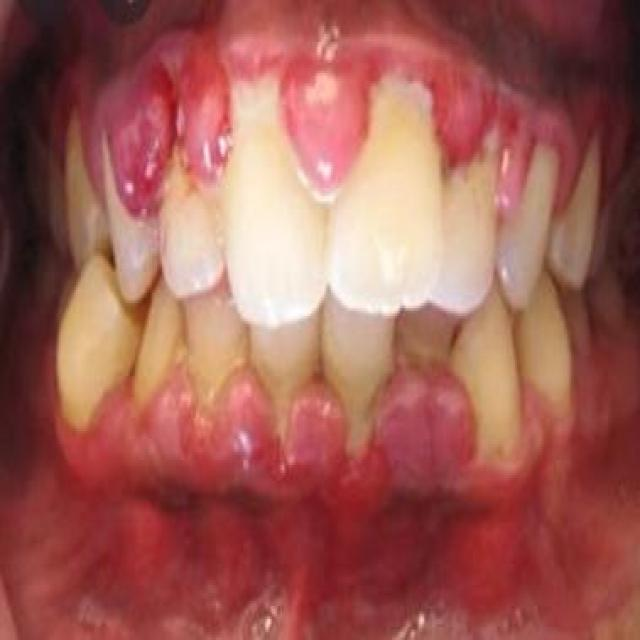Gingivitis: (151, 478, 477, 601), (280, 47, 370, 188), (109, 44, 176, 209), (374, 366, 469, 468)
